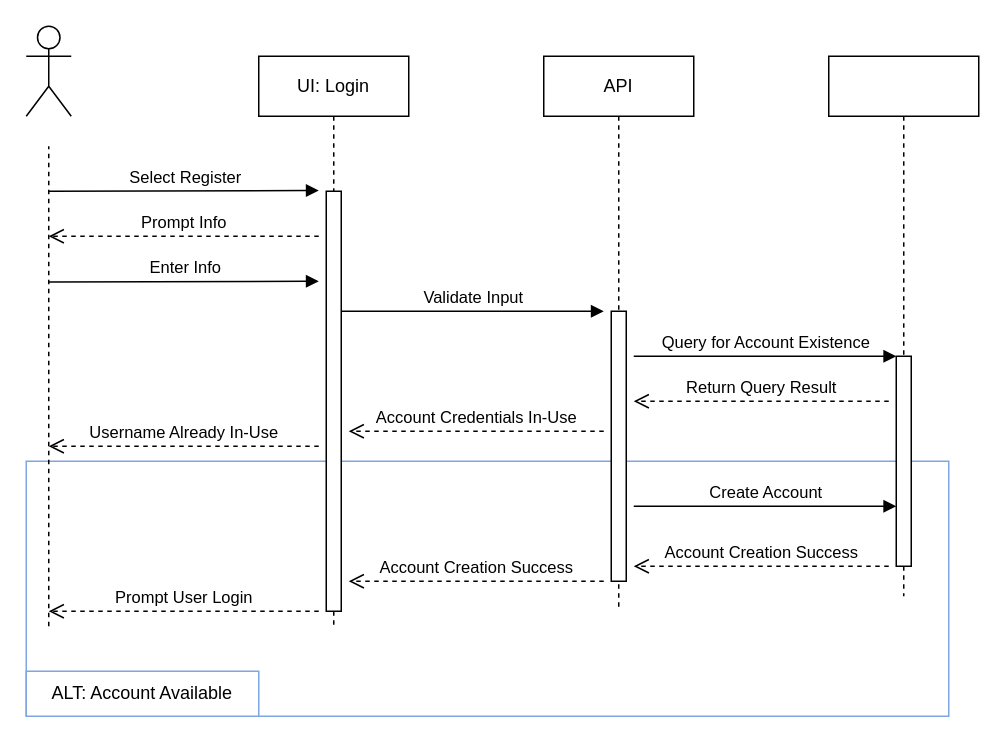
Image size: 1005x755. Some labels were removed from this diagram. The shapes that lost their labels are listed below. From the top down, each one's centre as x and y in pixels, then its label:
the point at 48,70: User
the point at 903,325: Database
